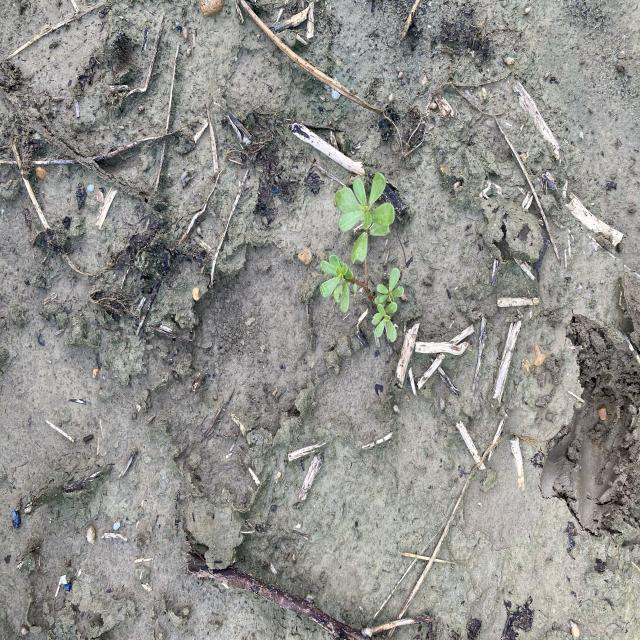Purslane: (318, 172, 406, 342)
